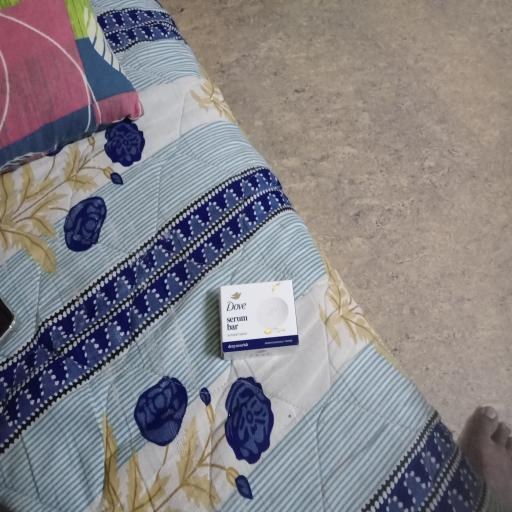Dove`1: (218, 281, 302, 355)
